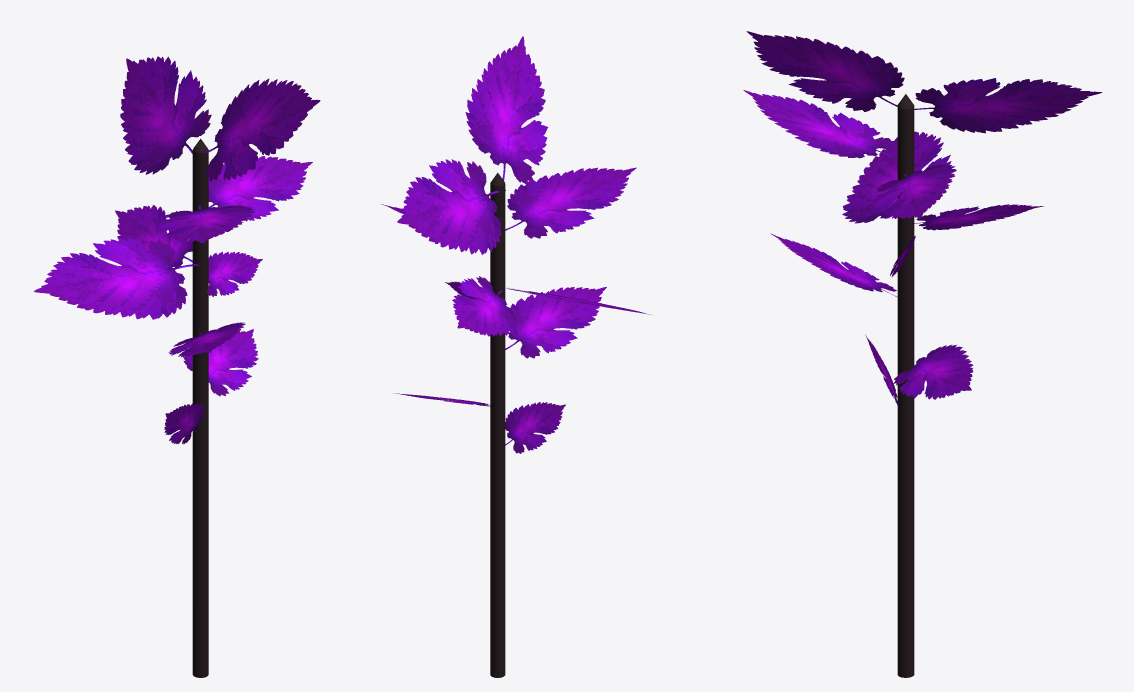
File: purpletree6.fbx
The picture shows the model from 3 angles, left to right: view 1: azimuth 30°, elevation 25°; view 2: azimuth 150°, elevation 25°; view 3: azimuth 270°, elevation 25°; orthographic projection. The views are drawn at different scales.
Visible parts, largest first — view 1: purpletrees:pCylinder66; view 2: purpletrees:pCylinder66; view 3: purpletrees:pCylinder66.
Part boxes in pixels (x1,y1,x2,y2): purpletrees:pCylinder66: (33, 56, 320, 677); purpletrees:pCylinder66: (381, 36, 651, 677); purpletrees:pCylinder66: (743, 31, 1101, 677).
Bounding box in the file's own units: 18.18 × 37.94 × 20.29.
